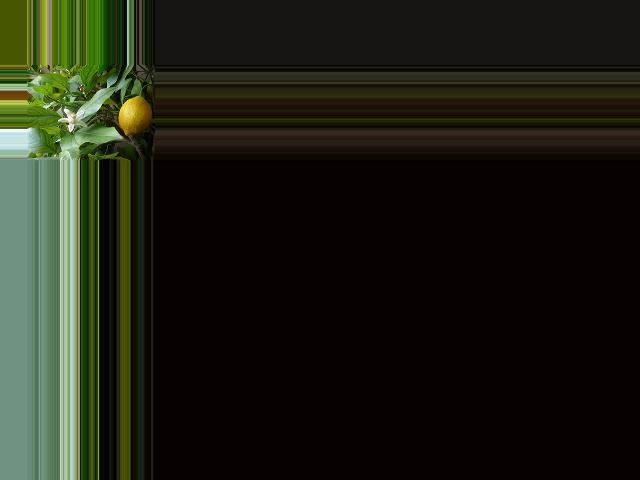lemon: (114, 94, 152, 138)
